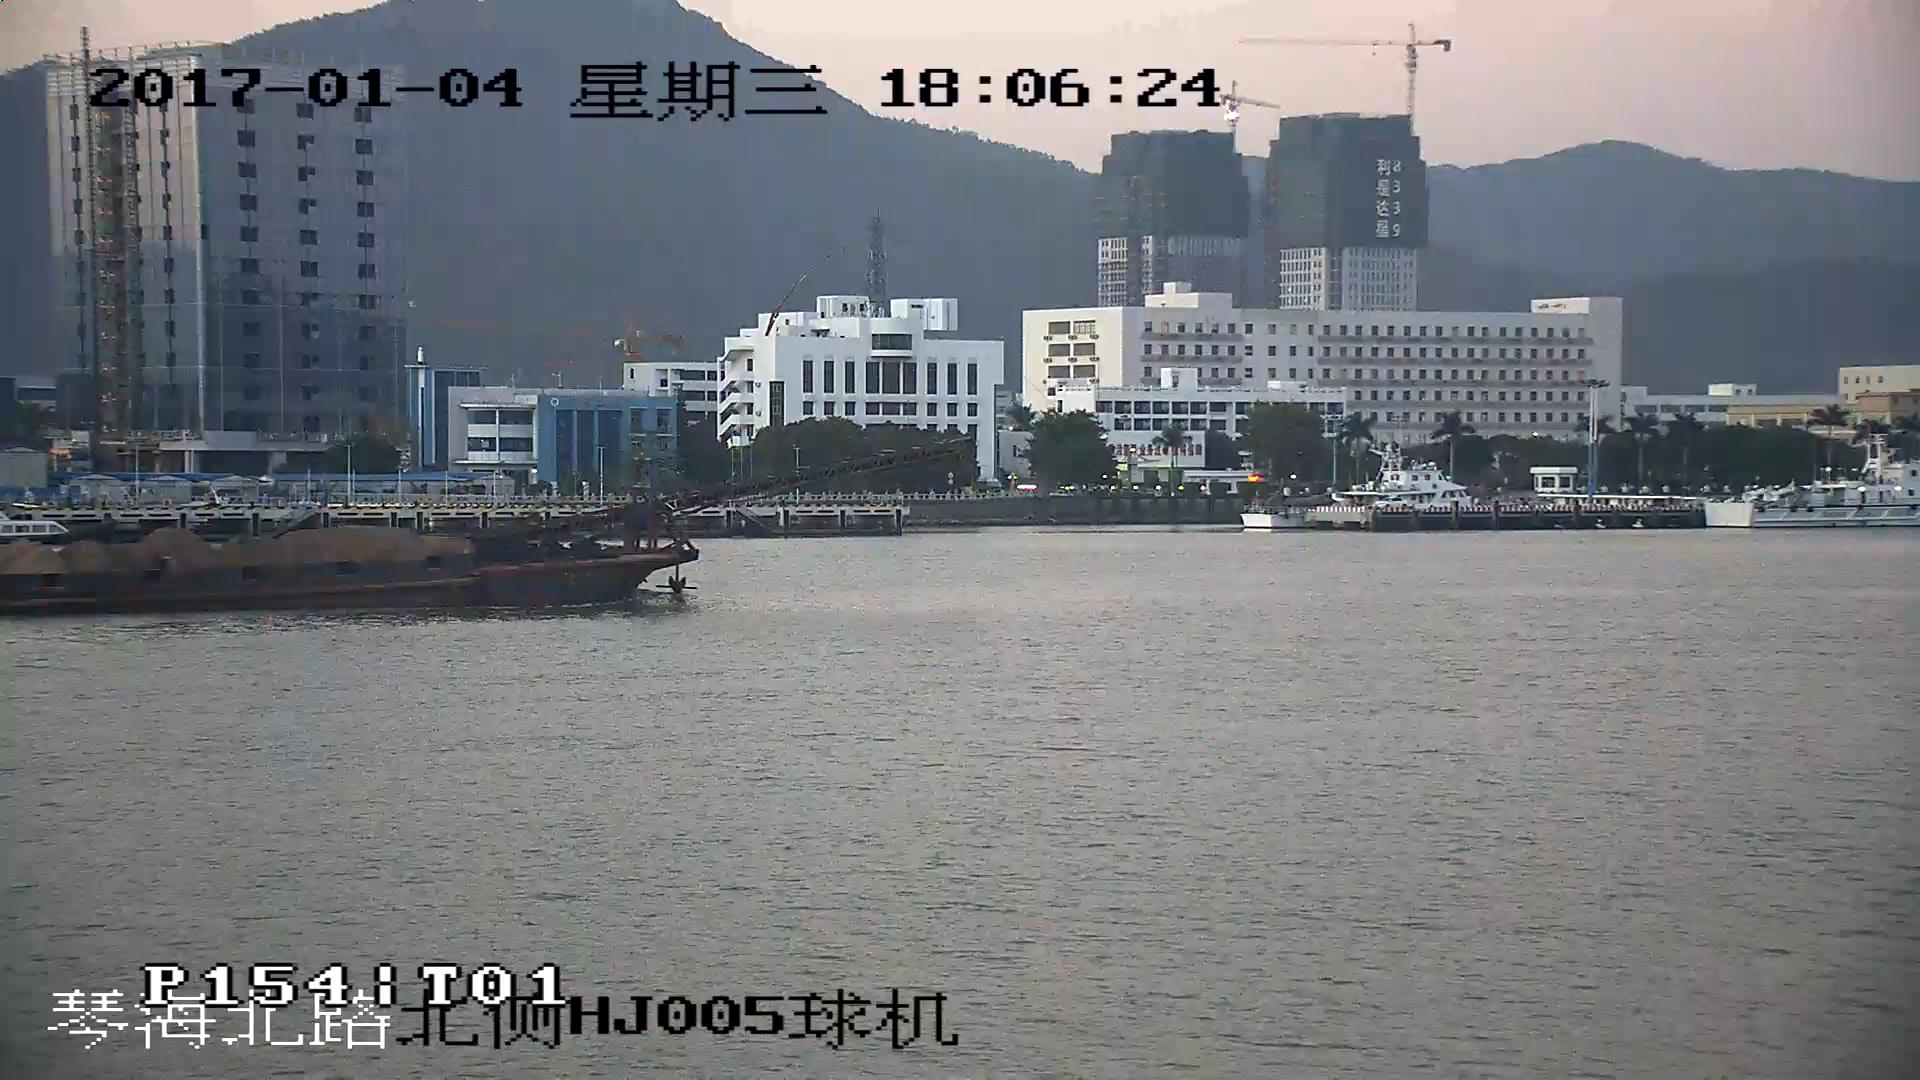ore carrier: (1, 447, 953, 622)
